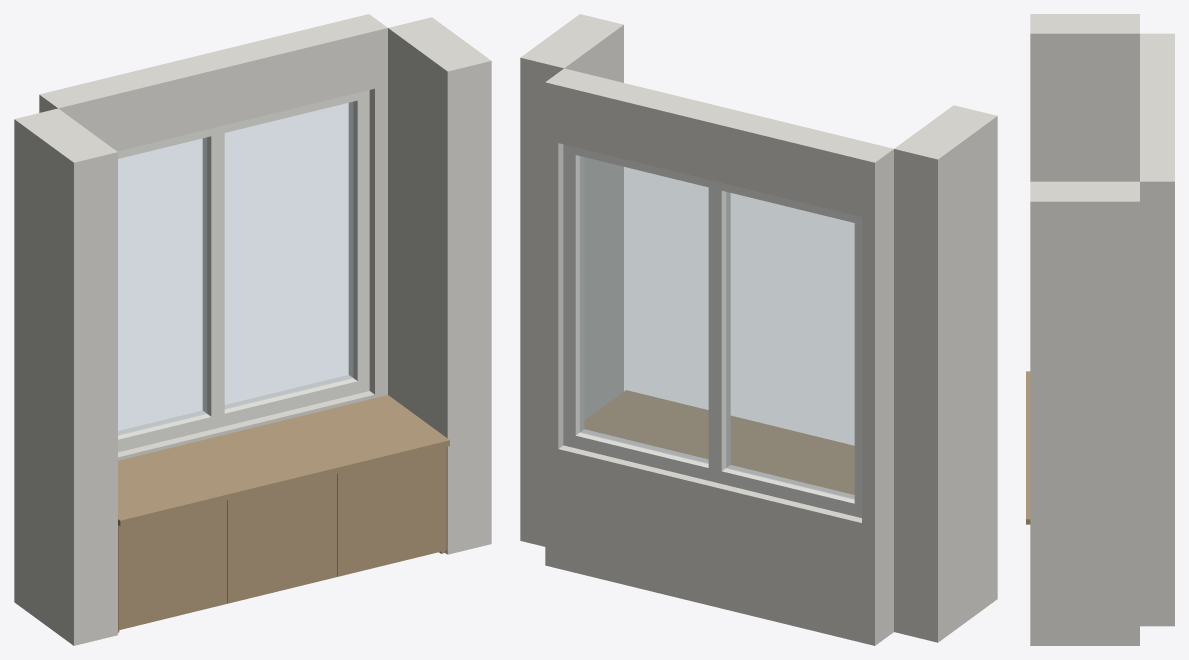
The model's file is window-seat-cupboards-llandeilo.glb.
3 views of the same model, side by side, from view 1: azimuth 30°, elevation 25°; view 2: azimuth 150°, elevation 25°; view 3: azimuth 270°, elevation 25° (orthographic). The views are drawn at different scales.
Parts seen in each view (by area): view 1: Room: Wall, left, Room: Wall, right, Room: Glass, right, Room: Glass, left, Room: Wall over the window, Seat top, Room: Window frame, Door, left (hinged left), Door, middle (hinged right), Door, right (hinged right), Room: Wall, right of the window, Room: Wall under the window; view 2: Room: Wall, left, Room: Wall under the window, Room: Glass, left, Room: Glass, right, Room: Wall, right, Room: Wall over the window, Room: Window frame, Seat top, Room: Wall, left of the window, Room: Wall, right of the window; view 3: Room: Wall, right, Room: Wall, left, Room: Wall, right of the window, Room: Wall over the window, Room: Wall under the window, Seat top.
Part boxes in pixels (x1,y1,x2,y2): Room: Wall, left: (14, 108, 117, 645); Room: Wall, right: (388, 17, 491, 554); Room: Glass, right: (225, 102, 353, 408); Room: Glass, left: (118, 137, 206, 435); Room: Wall over the window: (39, 14, 387, 151); Seat top: (118, 395, 449, 526); Room: Window frame: (117, 90, 369, 452); Door, left (hinged left): (118, 500, 227, 630); Door, middle (hinged right): (227, 473, 336, 603); Door, right (hinged right): (337, 447, 446, 576); Room: Wall, right of the window: (369, 85, 387, 394); Room: Wall under the window: (118, 391, 387, 460); Room: Wall, left: (894, 105, 997, 642); Room: Wall under the window: (545, 445, 893, 645); Room: Glass, left: (726, 192, 854, 499); Room: Glass, right: (580, 156, 708, 463); Room: Wall, right: (520, 14, 623, 546); Room: Wall over the window: (545, 68, 893, 220); Room: Window frame: (563, 144, 861, 517); Seat top: (584, 390, 854, 494); Room: Wall, left of the window: (862, 206, 893, 526); Room: Wall, right of the window: (545, 140, 563, 448); Room: Wall, right: (1030, 181, 1139, 645); Room: Wall, left: (1030, 14, 1139, 181); Room: Wall, right of the window: (1140, 234, 1174, 516); Room: Wall over the window: (1140, 33, 1174, 234); Room: Wall under the window: (1140, 516, 1174, 626); Seat top: (1026, 371, 1030, 524).
Bounding box in the file's own units: 1.9 × 2.1 × 0.638.
